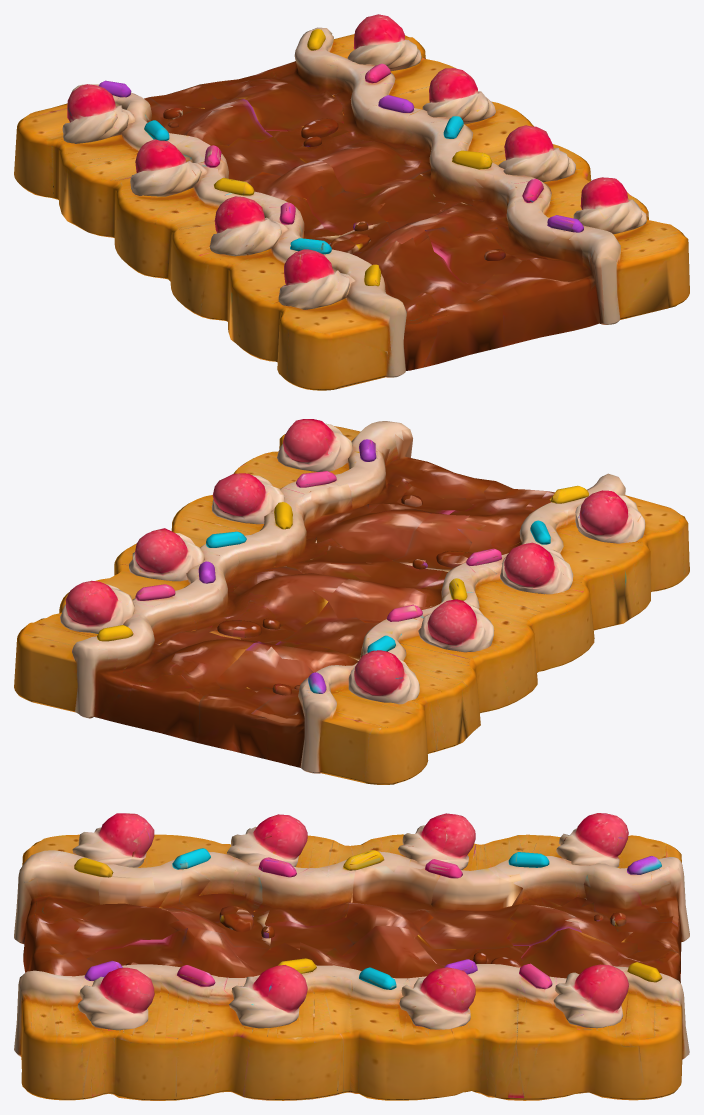
File: chocolate_river_segment.glb
The picture shows the model from 3 angles, top to bottom: view 1: azimuth 30°, elevation 25°; view 2: azimuth 150°, elevation 25°; view 3: azimuth 270°, elevation 25°; orthographic projection. The views are drawn at different scales.
Size of what is drawn, in the model's own units: 4.2 by 0.9996 by 5.71.
1 material, 1 textured.
